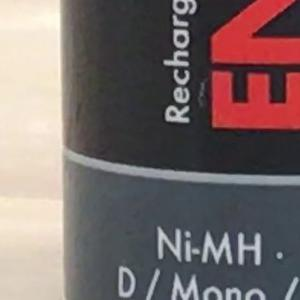NI-MH: (148, 223, 270, 271)
